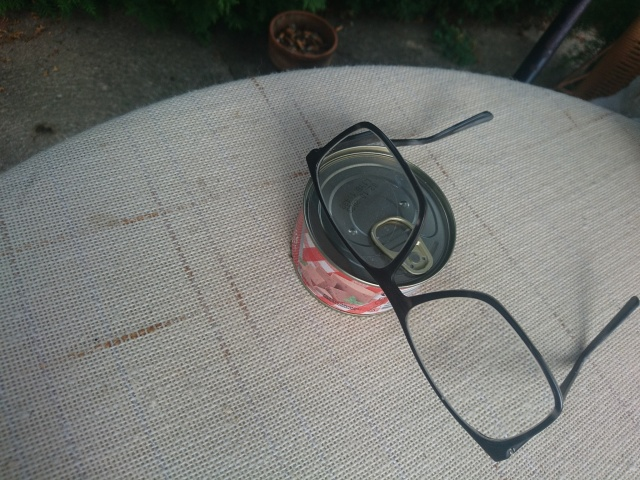Podravka Luncheon Meat 150g: (286, 142, 461, 321)
